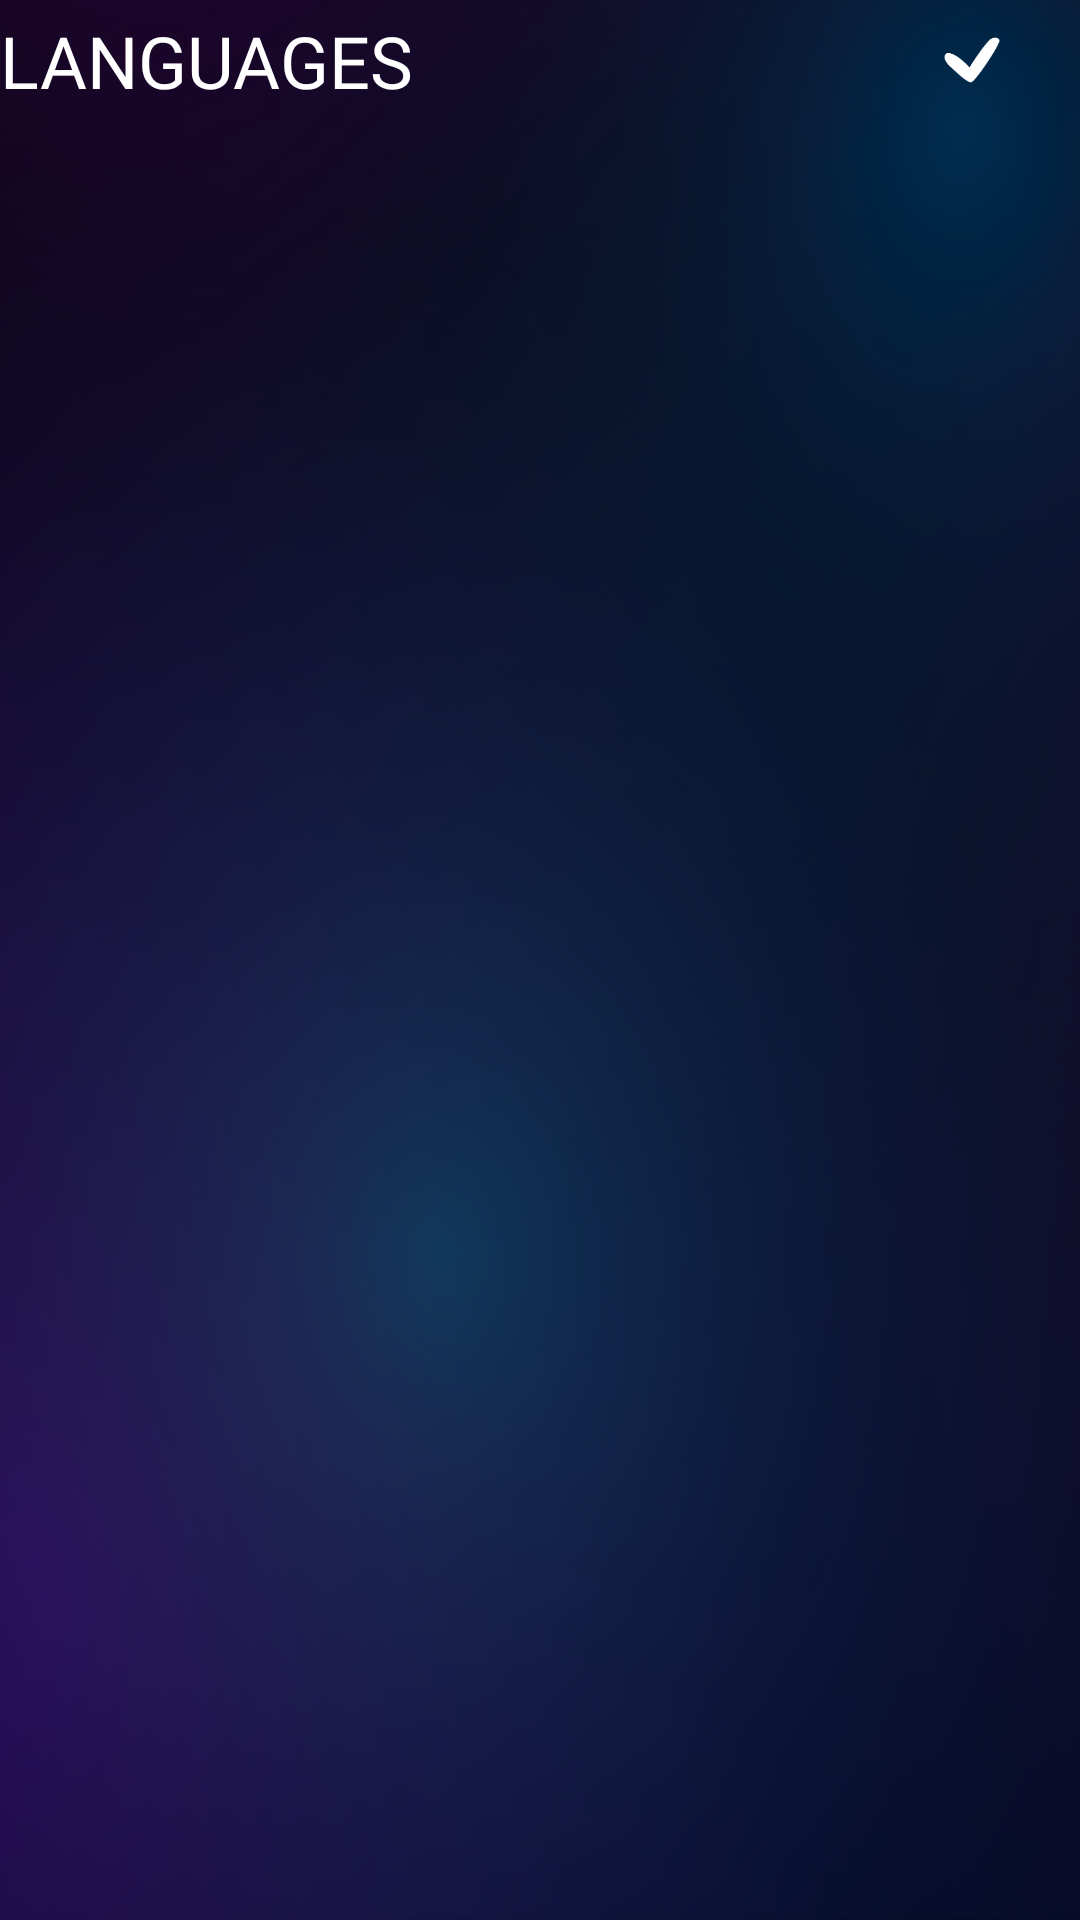

Named icons in this screenshot (1080 × 1920) and their centers, [x,y]:
setting tick: [972,60]
